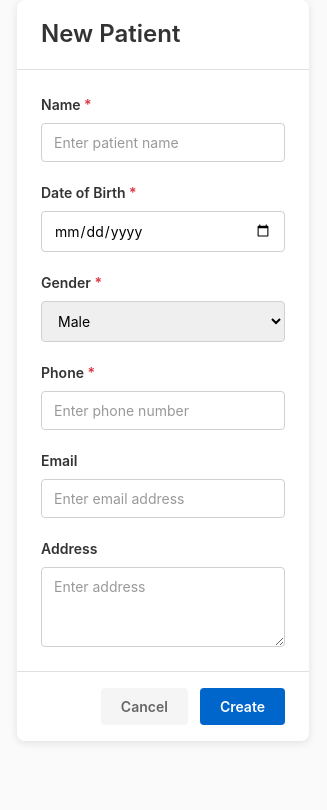
PatientForm Component › Form Validation › should show validation errors when submitting empty form
The width and height of the screenshot is (327, 810).
Step 1. Click the button "Create" → [242, 706], box x1=200 y1=688 x2=285 y2=725
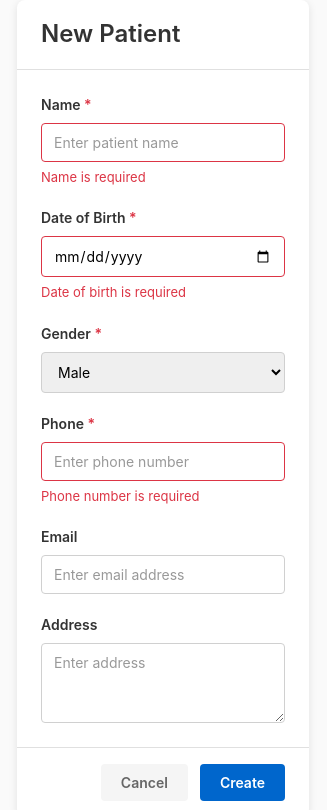
Expected: the text "Name is required" is shown, x1=41 y1=169 x2=146 y2=185
